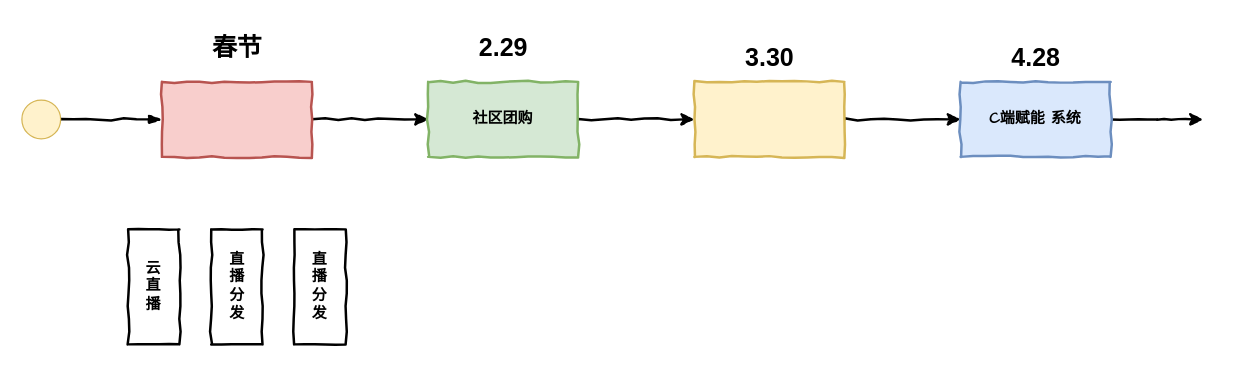
The diagram is 1236 pixels wide and 366 high, and some of its shapes have lost their labels. Here are the shapes that lost their labels. From the top down, the box of each, then its label:
(160, 80, 312, 158): 直播系统
(692, 80, 845, 158): 小B赋能 系统
